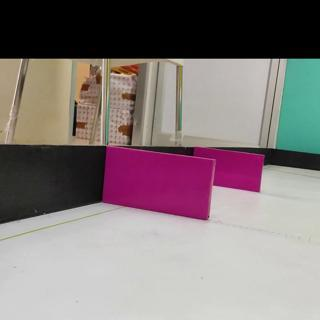xparking: (104, 145, 213, 220), (214, 150, 263, 192)
